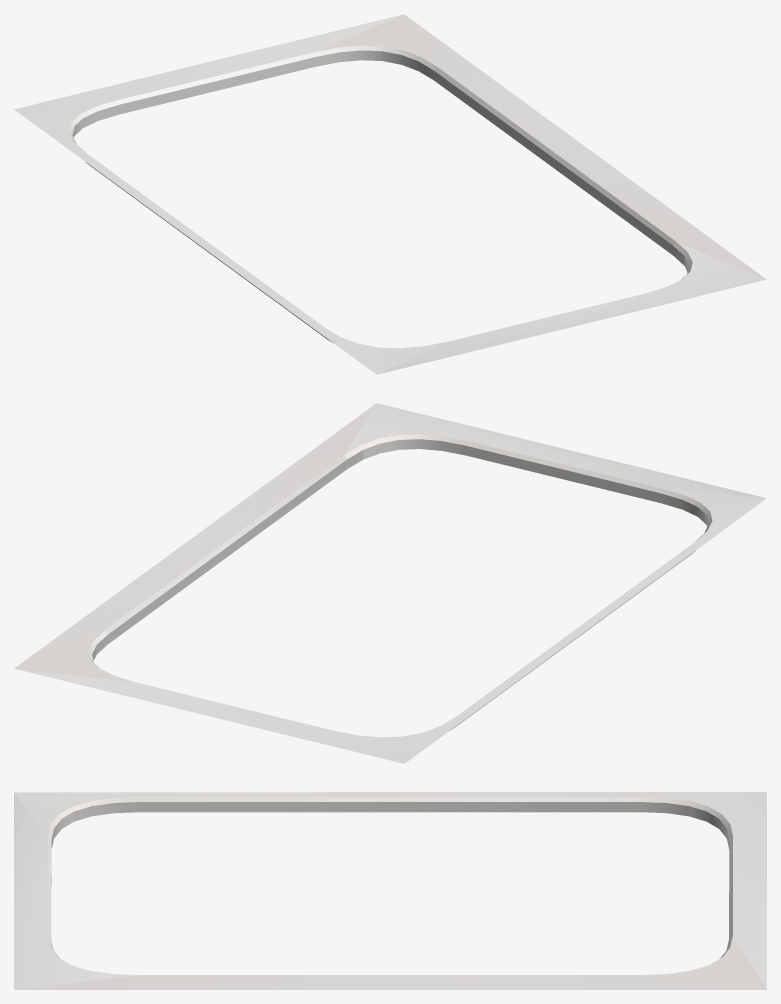
File: 1860_kitchen_Countertops_Sink.gltf
3 renders of one model, top to bottom at view 1: azimuth 30°, elevation 25°; view 2: azimuth 150°, elevation 25°; view 3: azimuth 270°, elevation 25°, orthographic. The views are drawn at different scales.
Visible parts, largest first — view 1: shink; view 2: shink; view 3: shink.
Part boxes in pixels (x1,y1,x2,y2): shink: (14,14,766,374); shink: (14,403,766,763); shink: (14,792,766,989).
Bounding box in the file's own units: 0.6217 × 0.02 × 1.
1 material, 1 textured.
